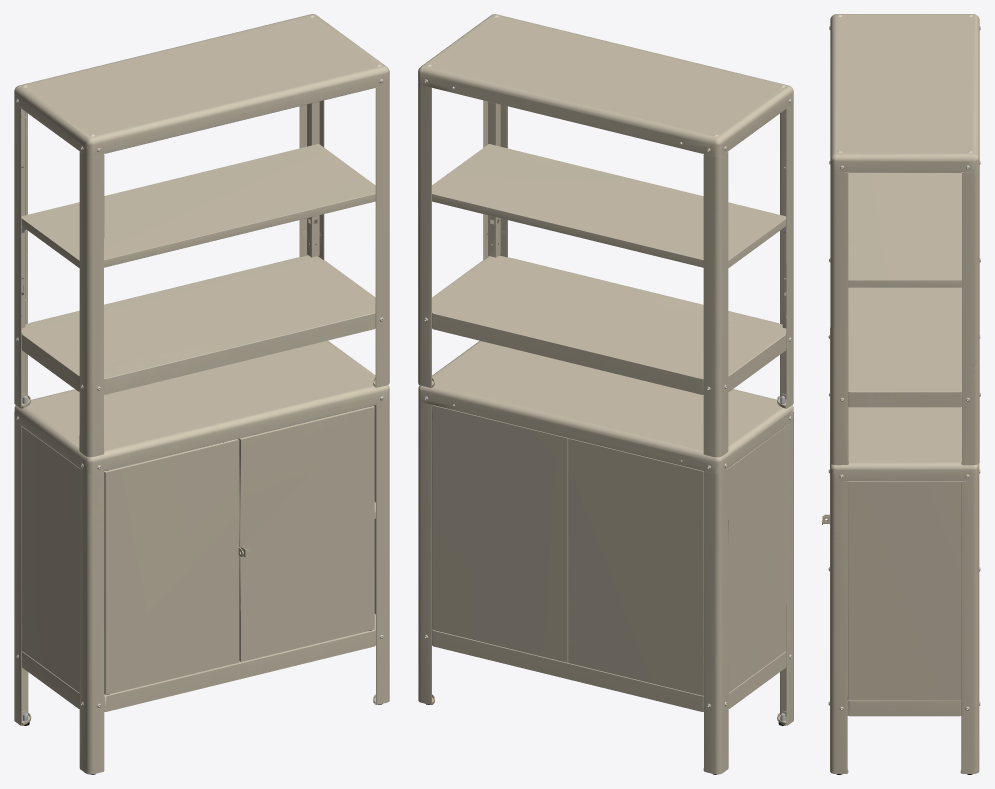
The model's file is kolbjorn-estanteria-con-armario-beige.glb.
3 renders of one model, left to right at view 1: azimuth 30°, elevation 25°; view 2: azimuth 150°, elevation 25°; view 3: azimuth 270°, elevation 25°, orthographic. The views are drawn at different scales.
Visible parts, largest first — view 1: Mesh_0; view 2: Mesh_0; view 3: Mesh_0.
Boxes of the visible parts, x1,y1,x2,y2 form: Mesh_0: [14, 14, 389, 774]; Mesh_0: [418, 14, 793, 774]; Mesh_0: [822, 14, 980, 774].
Bounding box in the file's own units: 0.8058 × 1.61 × 0.3724.
1 material, 1 textured.
